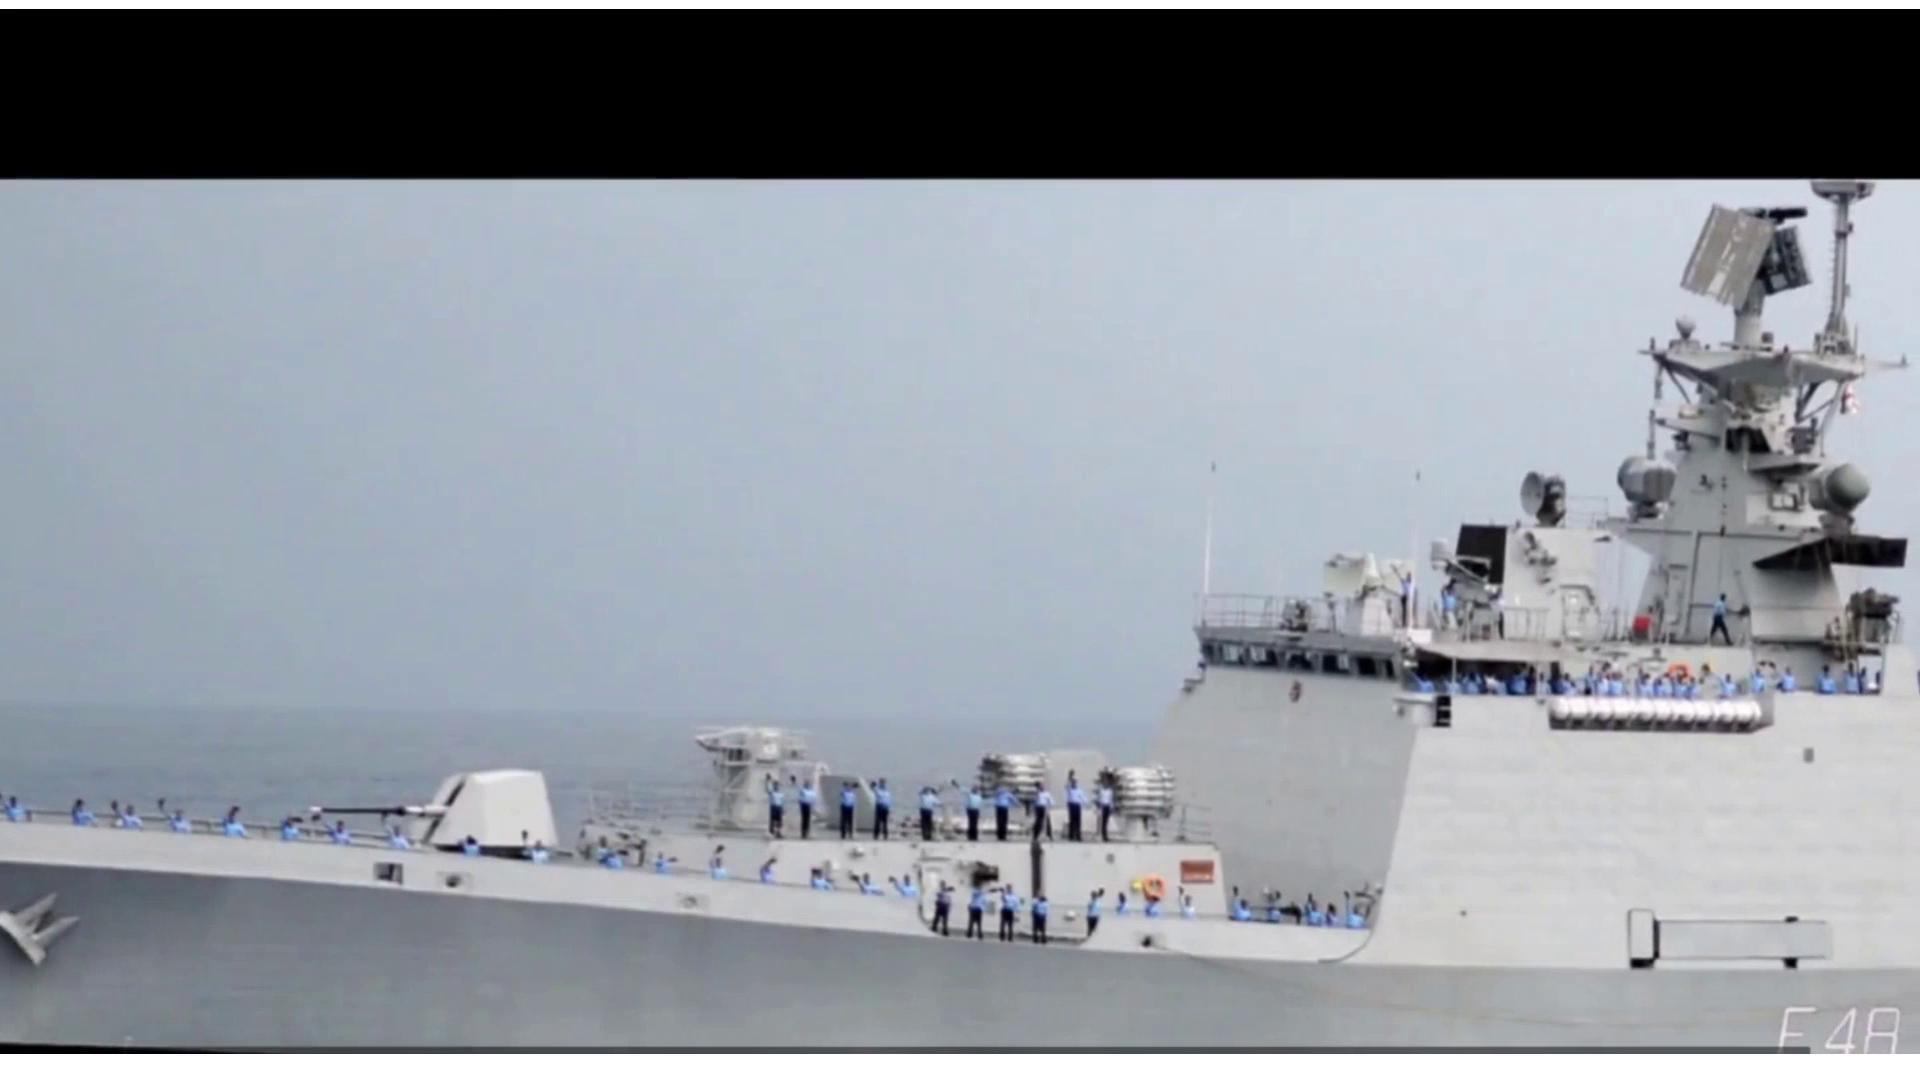OCR: (1766, 989, 1902, 1051)
